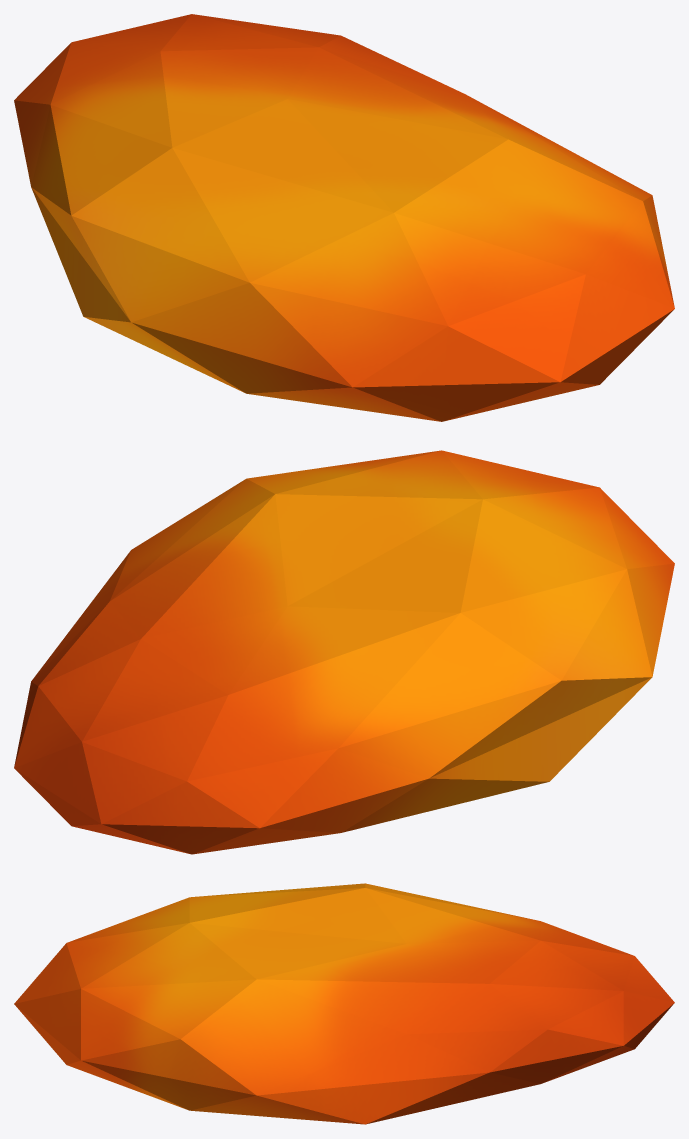
File: Pebble_5.fbx
The picture shows the model from 3 angles, top to bottom: view 1: azimuth 30°, elevation 25°; view 2: azimuth 150°, elevation 25°; view 3: azimuth 270°, elevation 25°; orthographic projection. The views are drawn at different scales.
Parts seen in each view (by area): view 1: Pebble_5; view 2: Pebble_5; view 3: Pebble_5.
Boxes of the visible parts, x1,y1,x2,y2 form: Pebble_5: (14, 14, 674, 421); Pebble_5: (14, 450, 674, 854); Pebble_5: (14, 883, 674, 1124).
Bounding box in the file's own units: 128 × 46.33 × 195.
